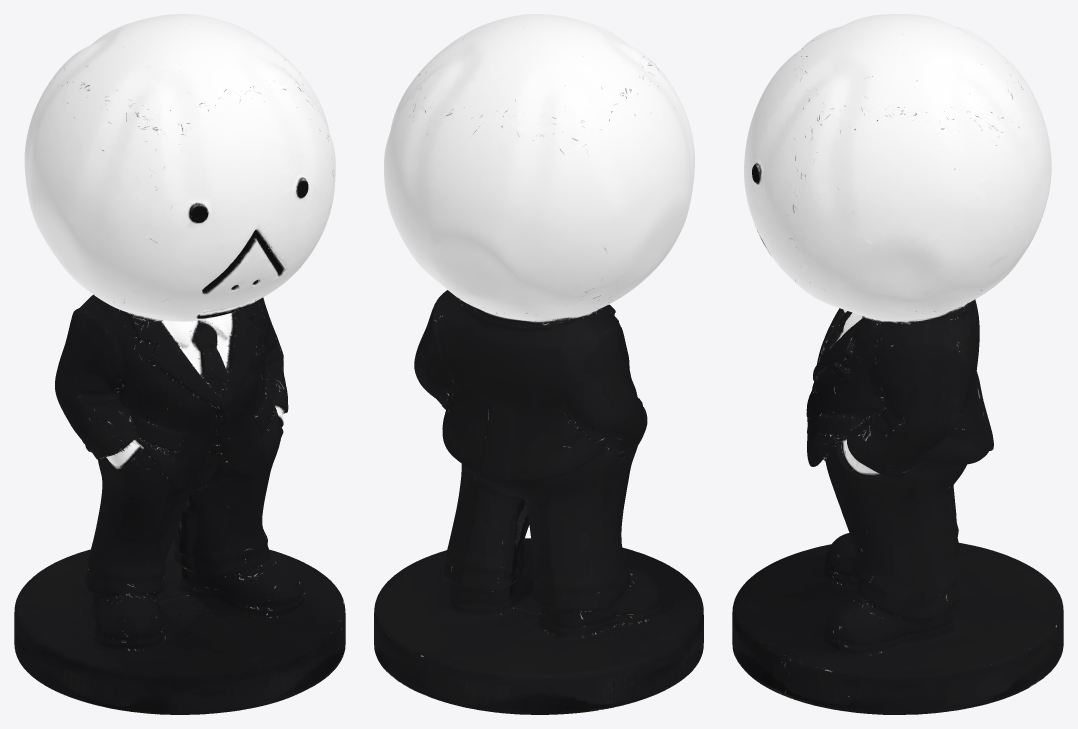
Rendered from Prize_6.glb.
3 views of the same model, side by side, from view 1: azimuth 30°, elevation 25°; view 2: azimuth 150°, elevation 25°; view 3: azimuth 270°, elevation 25° (orthographic).
Visible parts, largest first — view 1: Mesh1.0; view 2: Mesh1.0; view 3: Mesh1.0.
Part boxes in pixels (x1,y1,x2,y2): Mesh1.0: (14, 14, 345, 714); Mesh1.0: (374, 14, 703, 714); Mesh1.0: (732, 14, 1063, 714).
Size of the model in its own units: 0.927 by 1.91 by 0.9282.
1 material, 1 textured.
